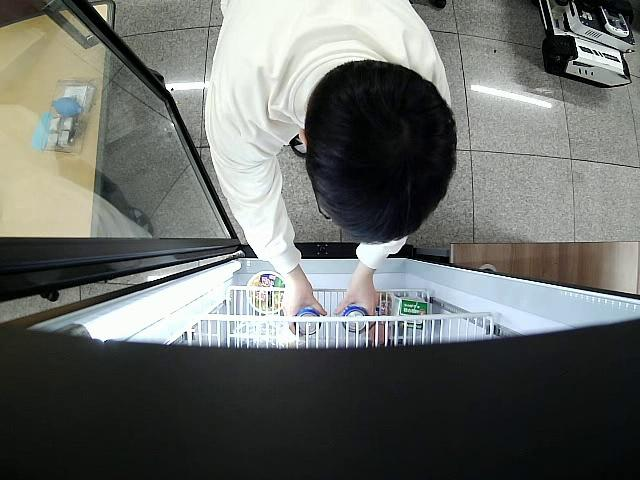00_hand: (279, 280, 327, 335), (337, 278, 379, 331)
13_pocariSweat: (293, 309, 321, 336), (343, 307, 368, 333)
